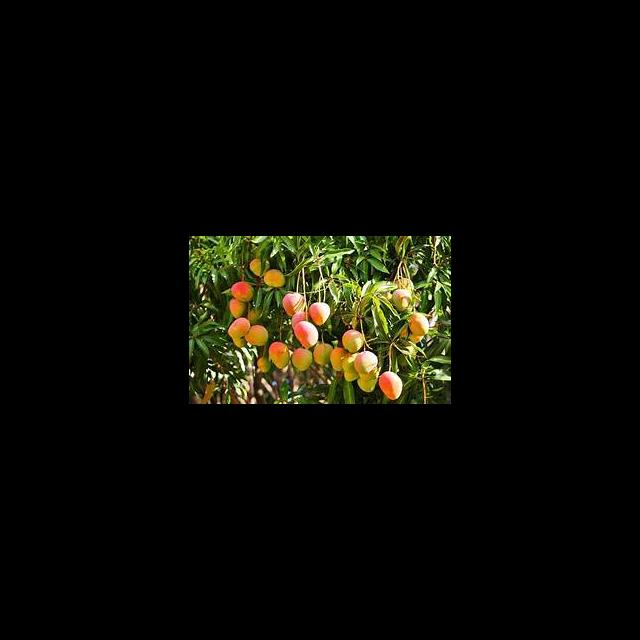mango: (294, 321, 320, 350), (378, 372, 403, 401), (230, 282, 254, 305), (269, 341, 288, 370), (409, 311, 431, 336), (227, 318, 251, 337), (247, 325, 268, 346), (342, 330, 363, 351)
